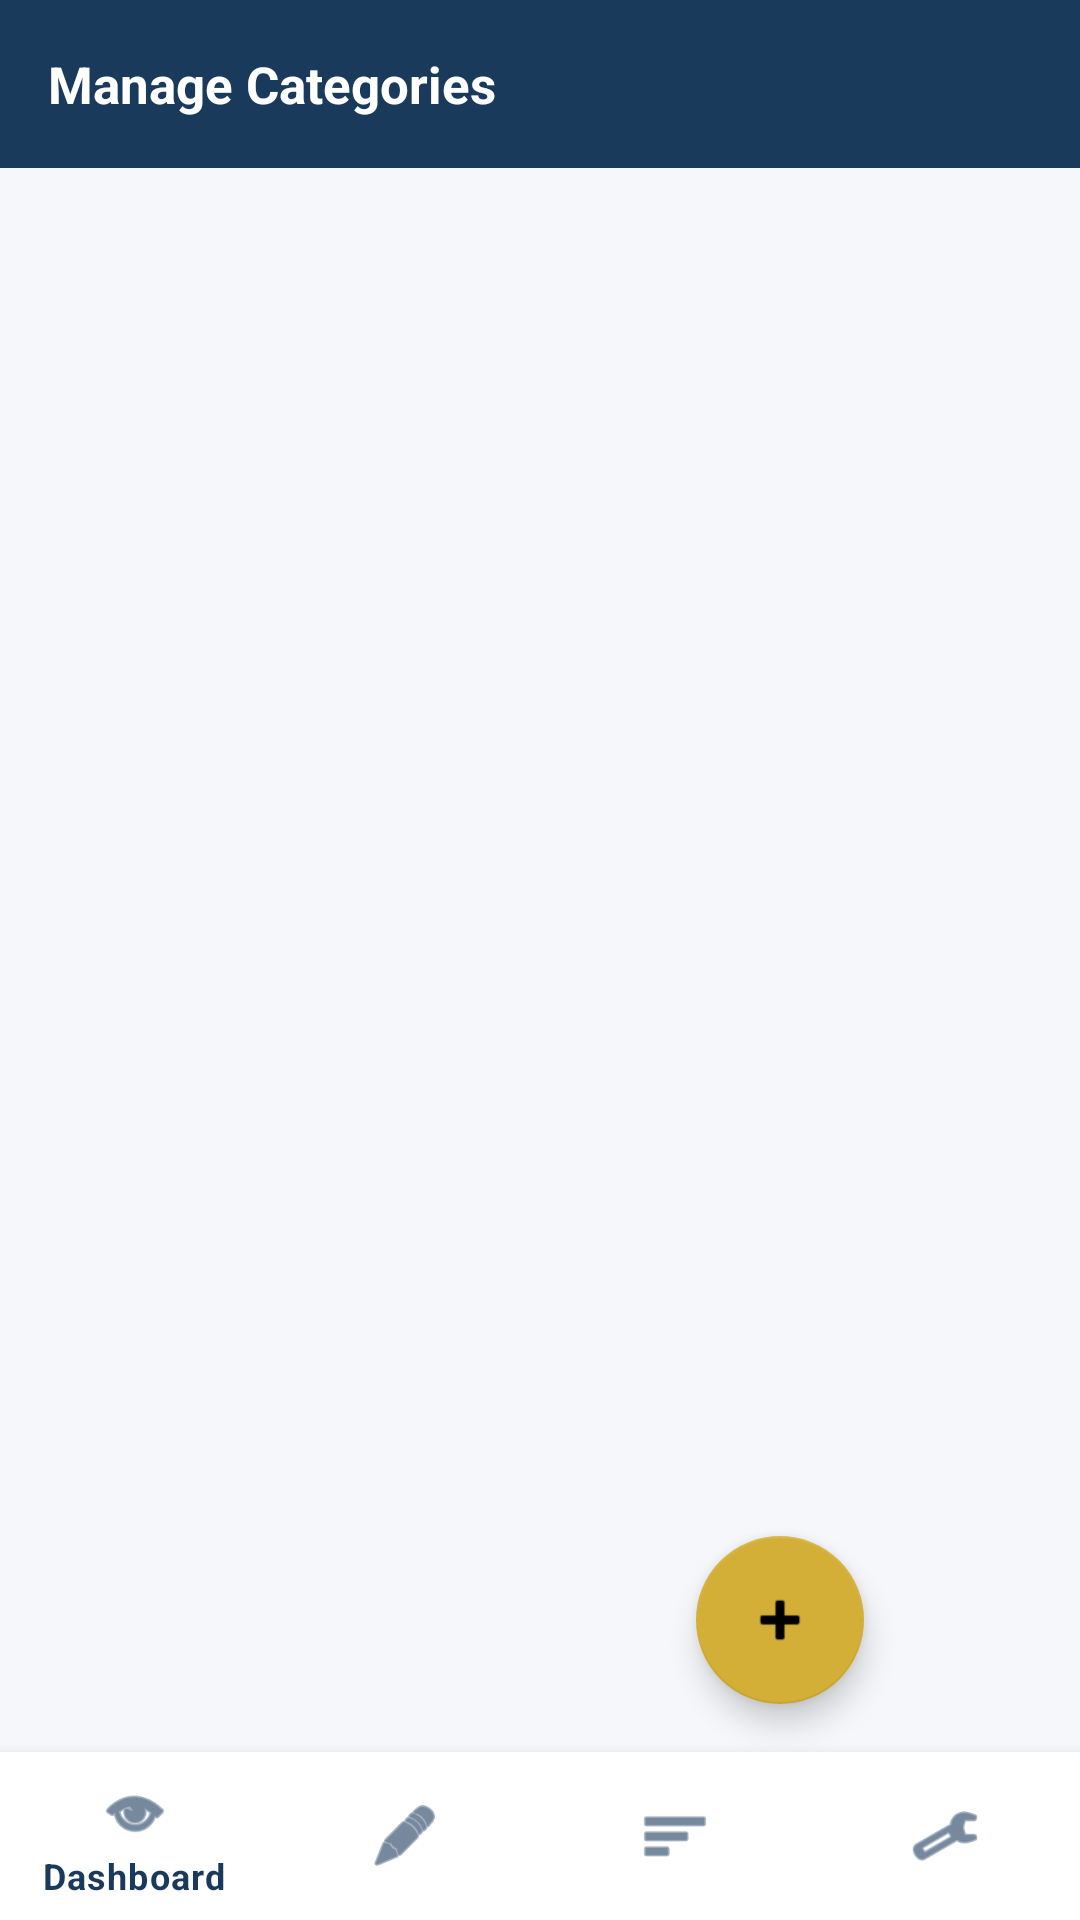

Named icons in this screenshot (1080px x 1920px) and their centers, [x,y]:
Add Category: [780,1620]
